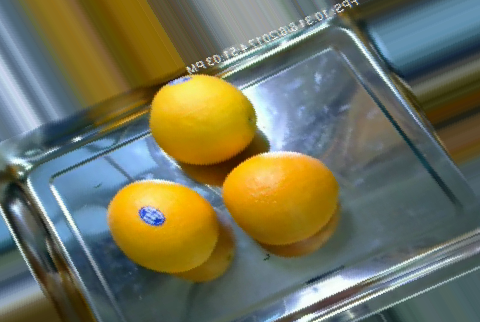Orange: (222, 151, 340, 244), (105, 178, 219, 273), (148, 74, 256, 166)
